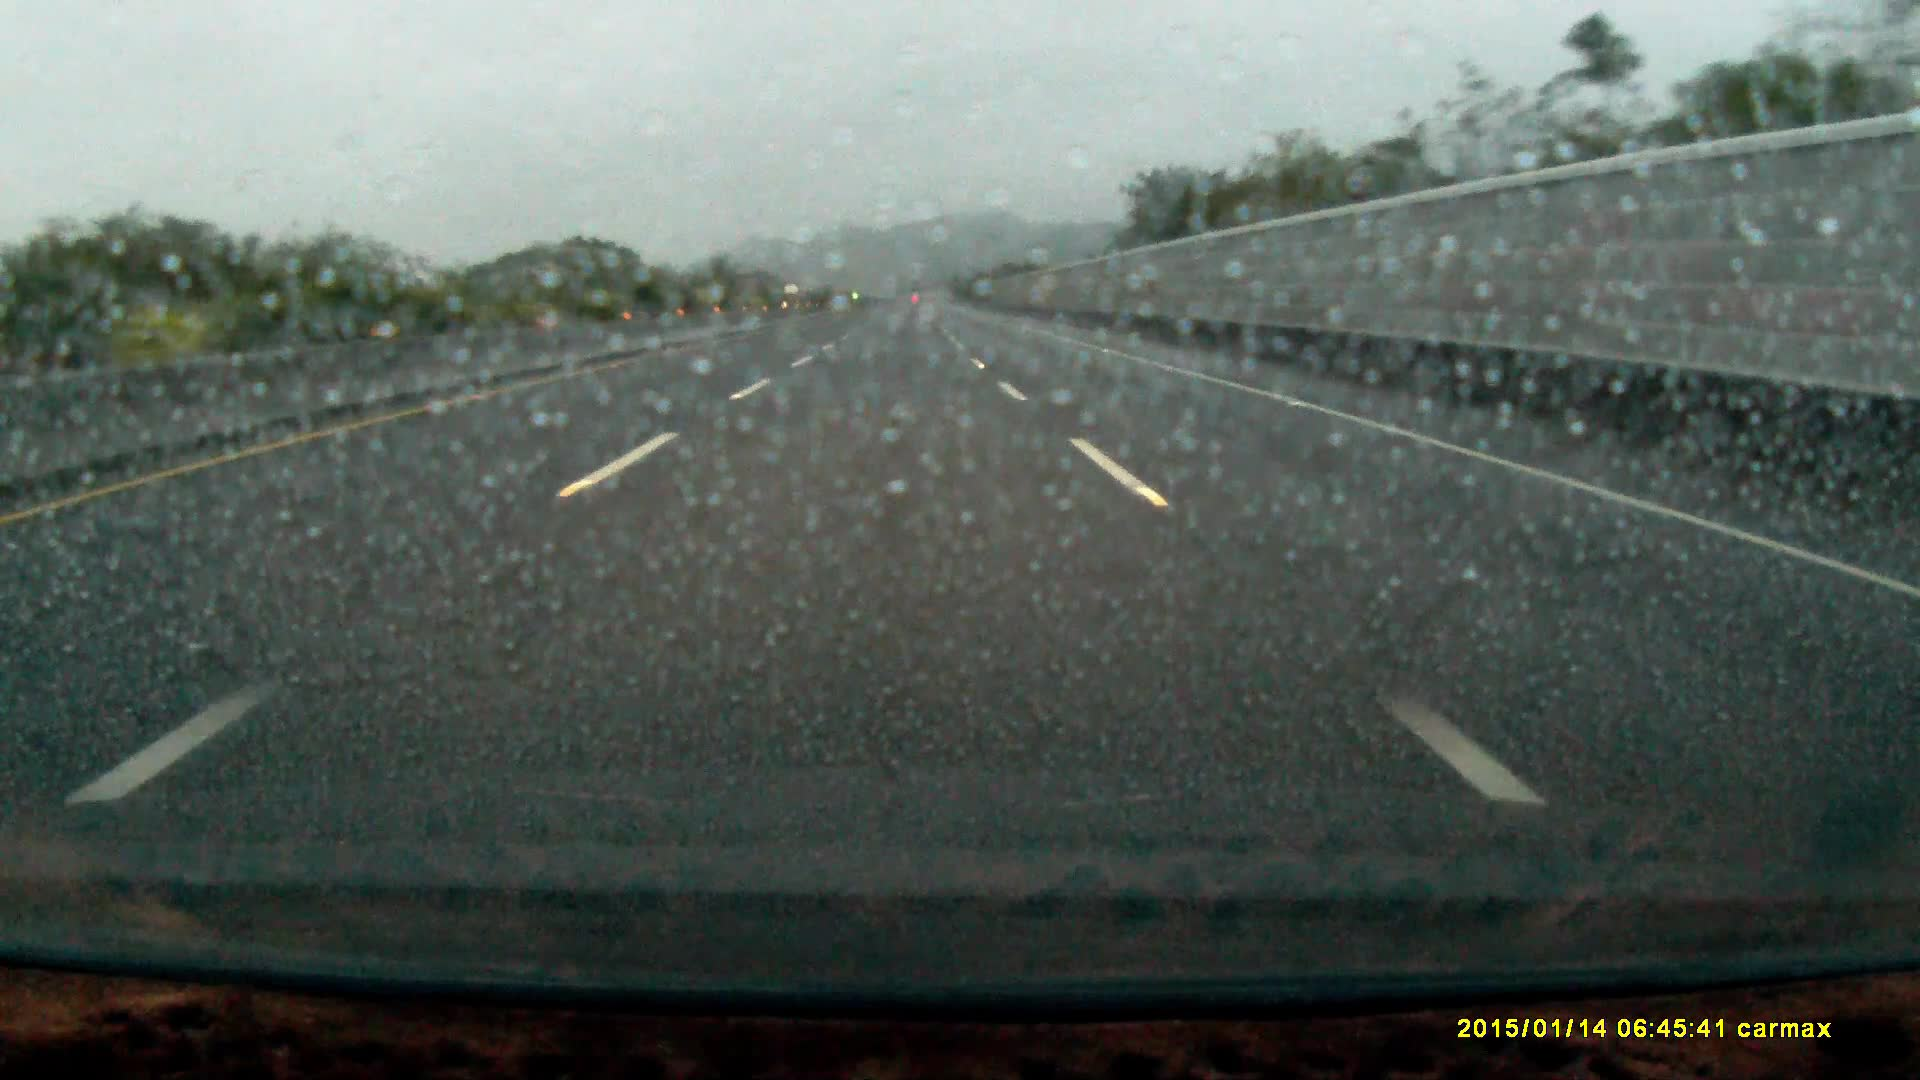vehicle: (783, 281, 808, 307)
